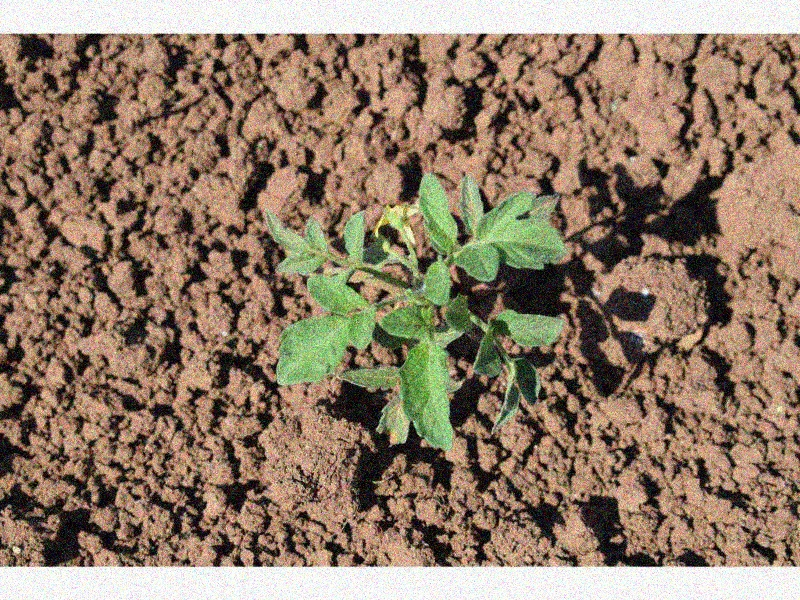tomato: (264, 171, 565, 450)
